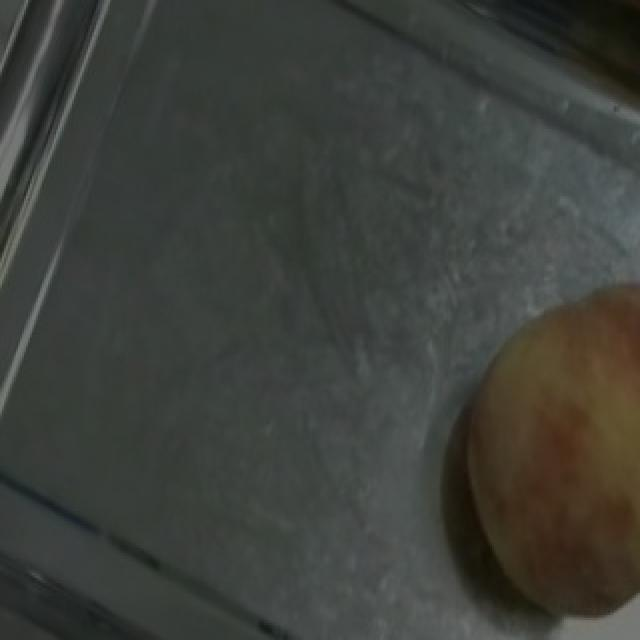Fruit: (414, 273, 640, 640)
